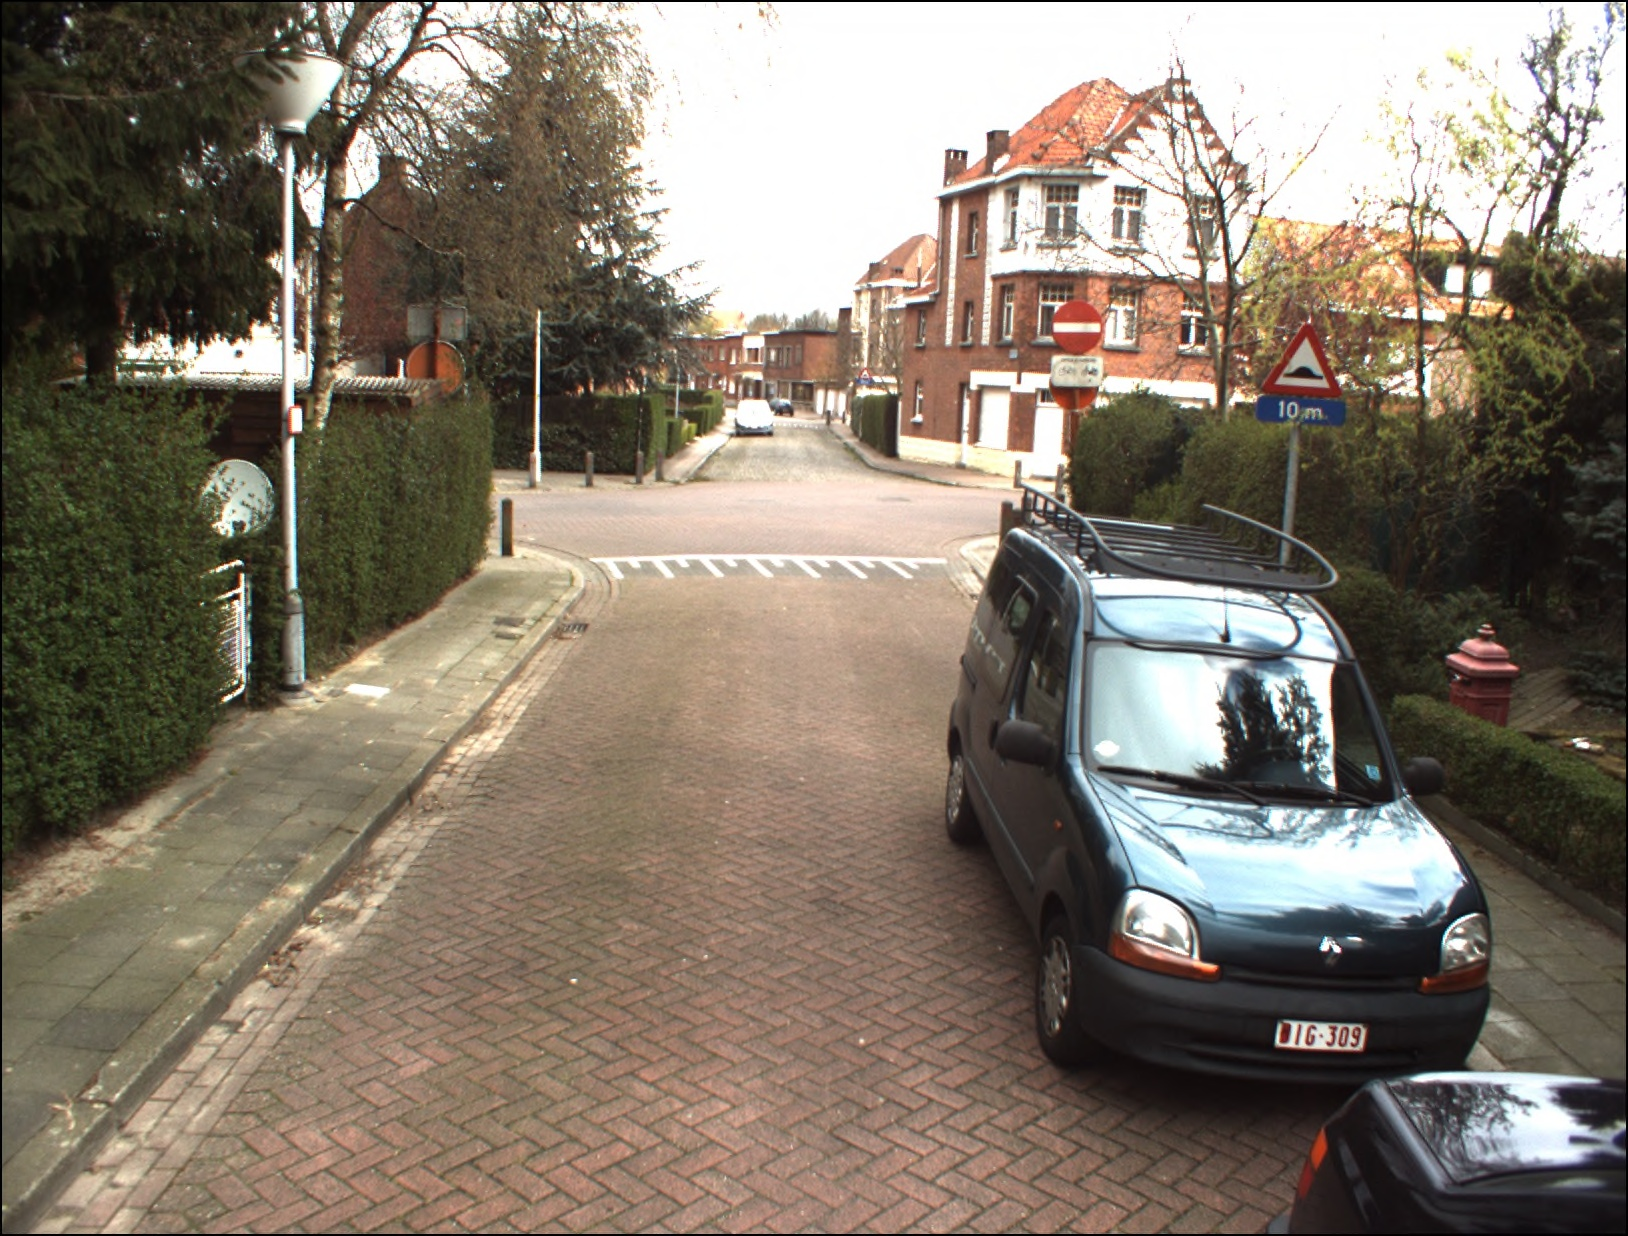noentry: (1046, 297, 1101, 354)
speedbump: (1261, 319, 1346, 400)
